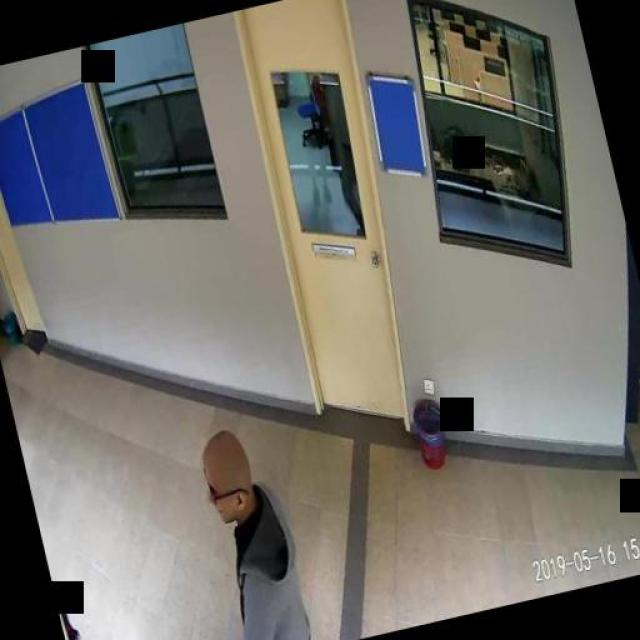gun: (54, 586, 96, 640)
